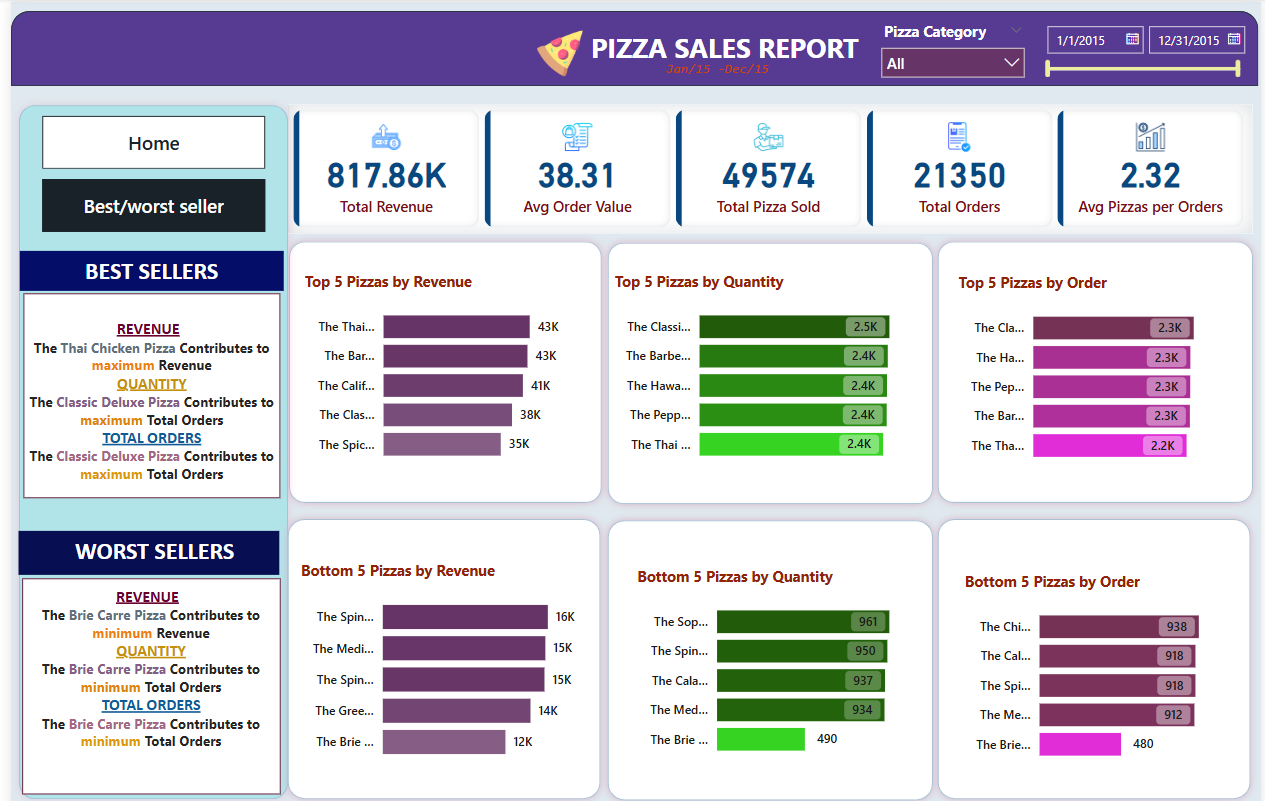

What the dashboard file says about the page in this screenshot:
{"tool":"powerbi","page":{"name":"Best/worst seller","canvas":[1250,820],"ordinal":1},"visuals":[{"type":"cardVisual","fields":{"Data":["pizza_sales.Total Revenue","pizza_sales.Avg Order Value","pizza_sales.Total Pizza Sold","pizza_sales.Total Orders","pizza_sales.Avg Pizzas per Orders"]},"box":[277.5,102.5,963.8,128.8],"z":0},{"type":"shape","box":[0,8.8,1247.5,75],"z":1000},{"type":"textbox","box":[543.8,22.5,340,52.5],"z":2000},{"type":"textbox","box":[650,51.2,153.8,43.8],"z":3000},{"type":"image","box":[510,23.3,78.3,55],"z":4000},{"type":"shape","box":[270,231.2,328.8,277.5],"z":5000},{"type":"shape","box":[0,95,285,710],"z":6000},{"type":"textbox","box":[8.8,248.8,263.8,40],"z":7000},{"type":"textbox","box":[13,291,257,205],"z":8000},{"type":"textbox","box":[11,576,258,216],"z":9000},{"type":"textbox","box":[8,529,261,44],"z":10000},{"type":"slicer","fields":{"Values":["pizza_sales.pizza_category"]},"box":[860,13.8,163.8,65],"z":11000},{"type":"slicer","fields":{"Values":["pizza_sales.order_date"]},"box":[1023.8,13.8,218.8,61.2],"z":12000},{"type":"shape","box":[588.8,232.5,341.2,277.5],"z":13000},{"type":"shape","box":[918.8,231.2,331.2,277.5],"z":14000},{"type":"shape","box":[268.8,508.8,328.8,296.2],"z":15000},{"type":"shape","box":[588.8,510,341.2,296.2],"z":16000},{"type":"shape","box":[918.8,508.8,328.8,296.2],"z":17000},{"type":"barChart","title":"Top 5 Pizzas by Revenue","fields":{"Category":["pizza_sales.pizza_name"],"Y":["pizza_sales.Total Revenue"]},"box":[288.8,268.8,282.5,202.5],"z":18000},{"type":"barChart","title":"Bottom 5 Pizzas by Revenue","fields":{"Category":["pizza_sales.pizza_name"],"Y":["pizza_sales.Total Revenue"]},"box":[285,558,295,213],"z":19000},{"type":"barChart","title":"Top 5 Pizzas by Quantity","fields":{"Category":["pizza_sales.pizza_name"],"Y":["pizza_sales.Total Pizza Sold"]},"box":[598.8,268.8,308.8,202.5],"z":20000},{"type":"barChart","title":"Bottom 5 Pizzas by Quantity","fields":{"Category":["pizza_sales.pizza_name"],"Y":["pizza_sales.Total Pizza Sold"]},"box":[621.2,563.8,286.2,202.5],"z":21000},{"type":"barChart","title":"Top 5 Pizzas by Order","fields":{"Category":["pizza_sales.pizza_name"],"Y":["pizza_sales.Total Orders"]},"box":[942.5,270,270,202.5],"z":22000},{"type":"barChart","title":"Bottom 5 Pizzas by Order","fields":{"Category":["pizza_sales.pizza_name"],"Y":["pizza_sales.Total Orders"]},"box":[948.8,568.8,270,202.5],"z":23000},{"type":"pageNavigator","box":[31.2,113.8,223.8,117.5],"z":23001}]}

Visuals, with their boxes on the page's 1250x820 design canvas (x1, y1, x2, y2). These are canvas units, not pixel positions in the 1265x801 screenshot, which may show the page scaled, cropped or inside an application window:
cardVisual - pizza_sales.Total Revenue x pizza_sales.Avg Order Value: {"left": 278, "top": 102, "right": 1241, "bottom": 231}
shape: {"left": 0, "top": 9, "right": 1248, "bottom": 84}
textbox: {"left": 544, "top": 22, "right": 884, "bottom": 75}
textbox: {"left": 650, "top": 51, "right": 804, "bottom": 95}
image: {"left": 510, "top": 23, "right": 588, "bottom": 78}
shape: {"left": 270, "top": 231, "right": 599, "bottom": 509}
shape: {"left": 0, "top": 95, "right": 285, "bottom": 805}
textbox: {"left": 9, "top": 249, "right": 273, "bottom": 289}
textbox: {"left": 13, "top": 291, "right": 270, "bottom": 496}
textbox: {"left": 11, "top": 576, "right": 269, "bottom": 792}
textbox: {"left": 8, "top": 529, "right": 269, "bottom": 573}
slicer - pizza_sales.pizza_category: {"left": 860, "top": 14, "right": 1024, "bottom": 79}
slicer - pizza_sales.order_date: {"left": 1024, "top": 14, "right": 1243, "bottom": 75}
shape: {"left": 589, "top": 232, "right": 930, "bottom": 510}
shape: {"left": 919, "top": 231, "right": 1250, "bottom": 509}
shape: {"left": 269, "top": 509, "right": 598, "bottom": 805}
shape: {"left": 589, "top": 510, "right": 930, "bottom": 806}
shape: {"left": 919, "top": 509, "right": 1248, "bottom": 805}
"Top 5 Pizzas by Revenue" barChart: {"left": 289, "top": 269, "right": 571, "bottom": 471}
"Bottom 5 Pizzas by Revenue" barChart: {"left": 285, "top": 558, "right": 580, "bottom": 771}
"Top 5 Pizzas by Quantity" barChart: {"left": 599, "top": 269, "right": 908, "bottom": 471}
"Bottom 5 Pizzas by Quantity" barChart: {"left": 621, "top": 564, "right": 907, "bottom": 766}
"Top 5 Pizzas by Order" barChart: {"left": 942, "top": 270, "right": 1212, "bottom": 472}
"Bottom 5 Pizzas by Order" barChart: {"left": 949, "top": 569, "right": 1219, "bottom": 771}
pageNavigator: {"left": 31, "top": 114, "right": 255, "bottom": 231}
